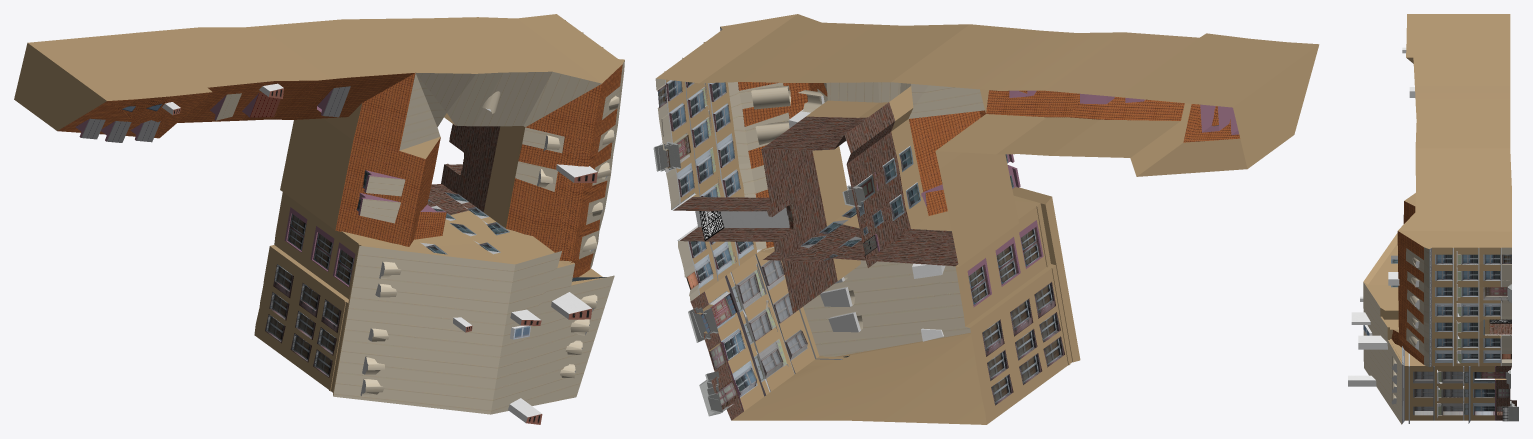
File: Vene_19-origo.obj
The picture shows the model from 3 angles, left to right: view 1: azimuth 30°, elevation 25°; view 2: azimuth 150°, elevation 25°; view 3: azimuth 270°, elevation 25°; orthographic projection. The views are drawn at different scales.
Parts seen in each view (by area): view 1: polySurface10; view 2: polySurface10; view 3: polySurface10.
Boxes of the visible parts, x1=… form: polySurface10: x1=14, y1=14, x2=624, y2=424; polySurface10: x1=653, y1=14, x2=1319, y2=424; polySurface10: x1=1348, y1=14, x2=1518, y2=424.
Size of the model in its own units: 53.62 by 38 by 22.31.
